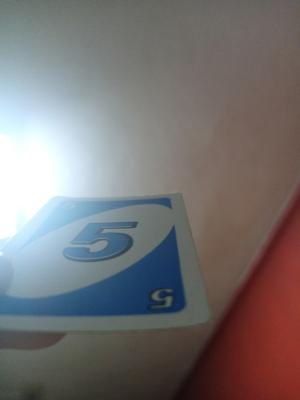blue: (57, 200, 182, 319)
num_5: (143, 273, 180, 316)
